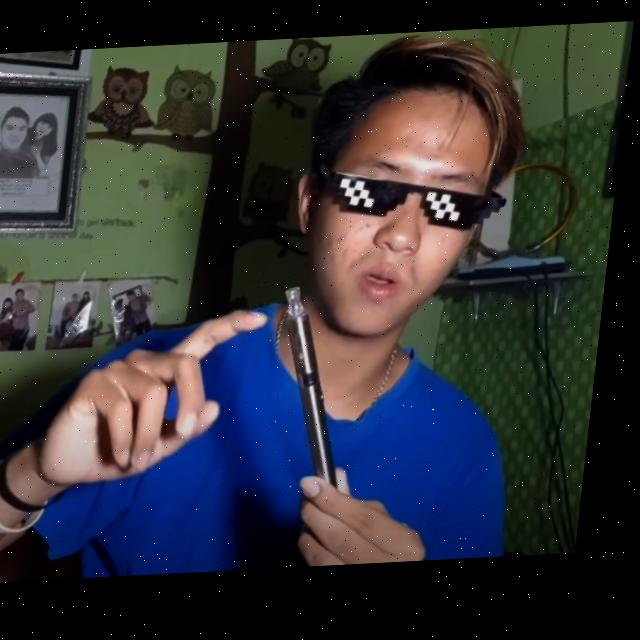vape: (274, 287, 368, 498)
